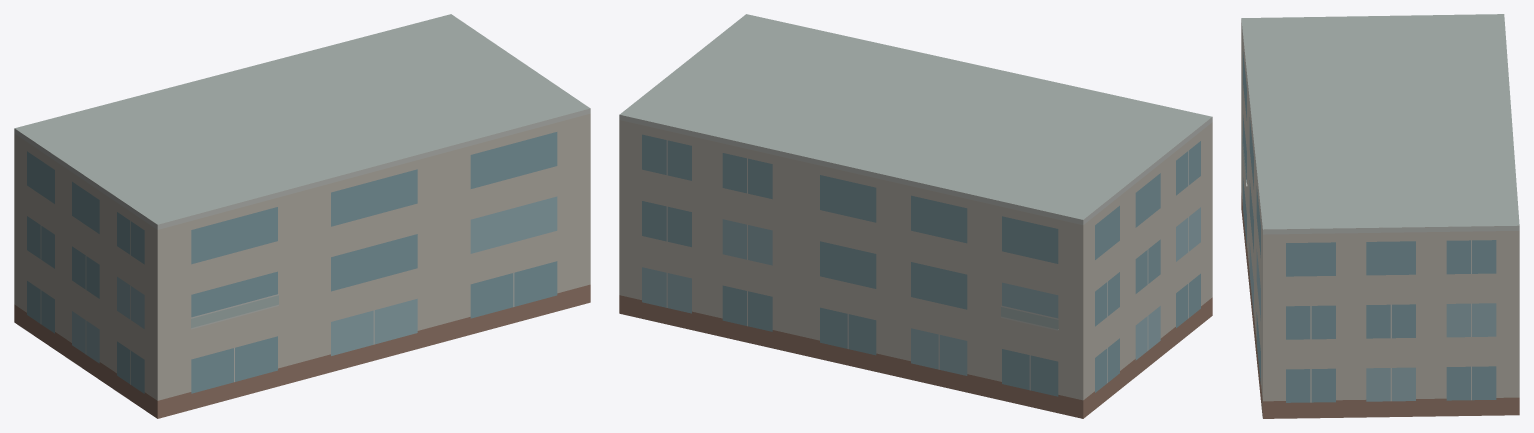
File: survey-upis-32858968.glb
3 renders of one model, left to right at view 1: azimuth 30°, elevation 25°; view 2: azimuth 150°, elevation 25°; view 3: azimuth 270°, elevation 25°, orthographic. The views are drawn at different scales.
Visible parts, largest first — view 1: survey-upis-32858968.tmp; view 2: survey-upis-32858968.tmp; view 3: survey-upis-32858968.tmp.
Part boxes in pixels (box(x1,y1,x2,y2)): survey-upis-32858968.tmp: box(14, 14, 590, 418); survey-upis-32858968.tmp: box(619, 14, 1212, 418); survey-upis-32858968.tmp: box(1241, 14, 1519, 418).
Size of the model in its own units: 22.33 by 9.15 by 12.19.
